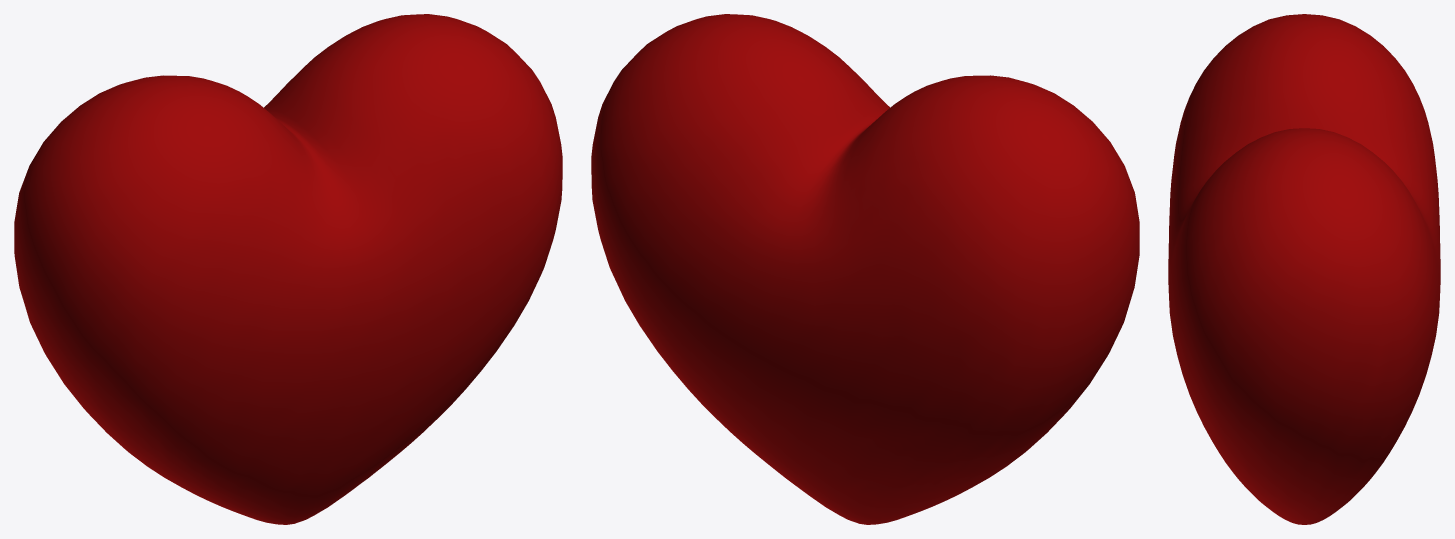
Rendered from valen.gltf.
3 renders of one model, left to right at view 1: azimuth 30°, elevation 25°; view 2: azimuth 150°, elevation 25°; view 3: azimuth 270°, elevation 25°, orthographic. The views are drawn at different scales.
Visible parts, largest first — view 1: BASE HEART_Material #41_0; view 2: BASE HEART_Material #41_0; view 3: BASE HEART_Material #41_0.
Part boxes in pixels (left/top/right/bottom): BASE HEART_Material #41_0: left=14, top=14, right=562, bottom=524; BASE HEART_Material #41_0: left=591, top=14, right=1139, bottom=524; BASE HEART_Material #41_0: left=1168, top=14, right=1440, bottom=524.
Bounding box in the file's own units: 85.81 × 74.82 × 42.25.
